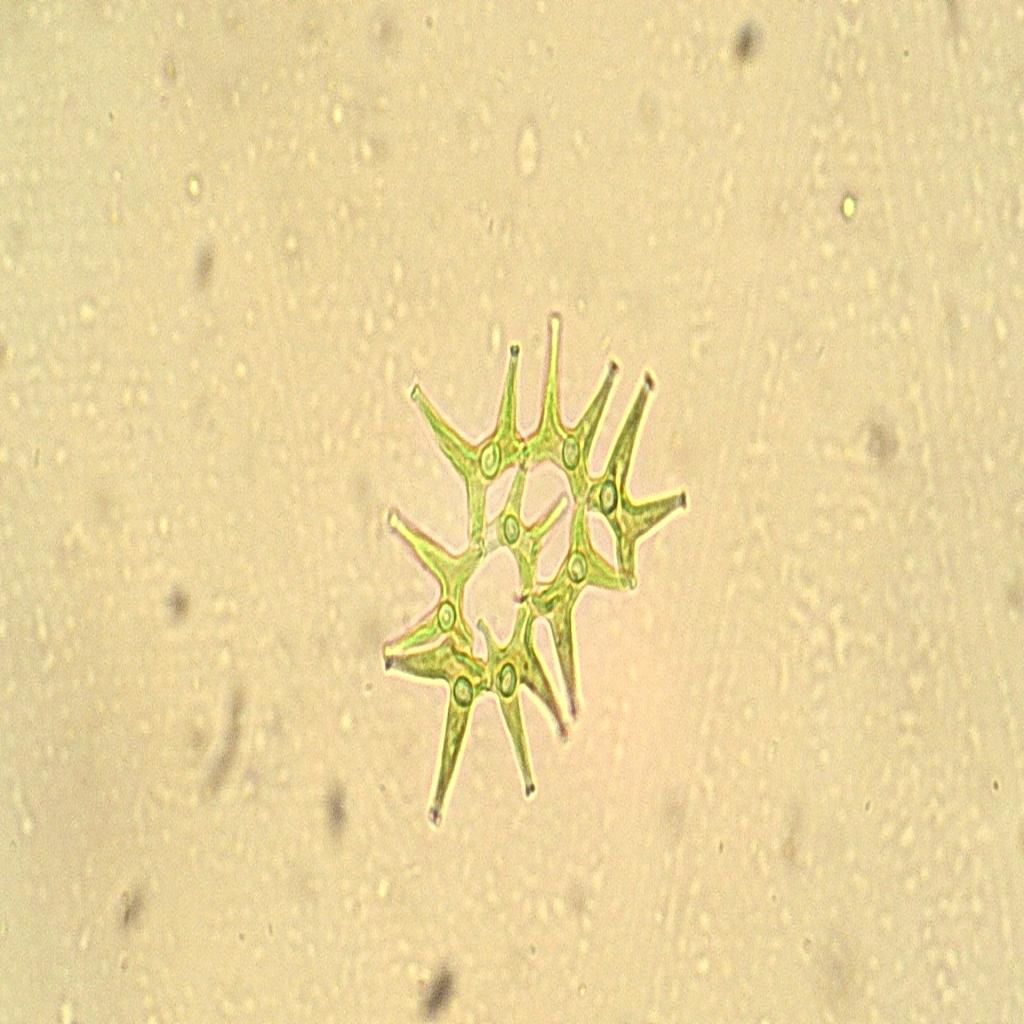Pediastrum_CFI: (356, 276, 715, 864)
